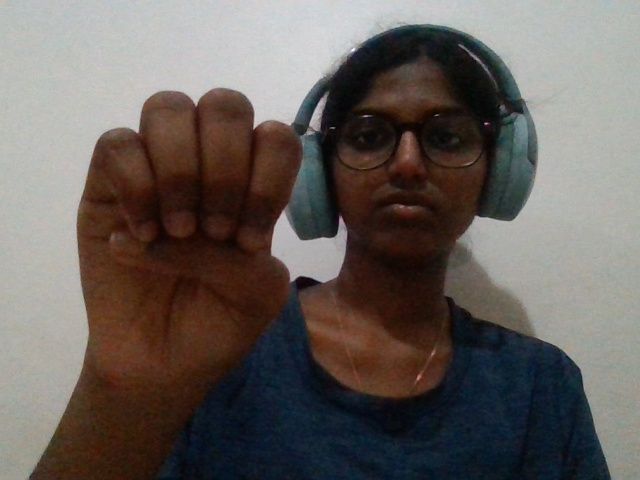E: (34, 83, 329, 454)
